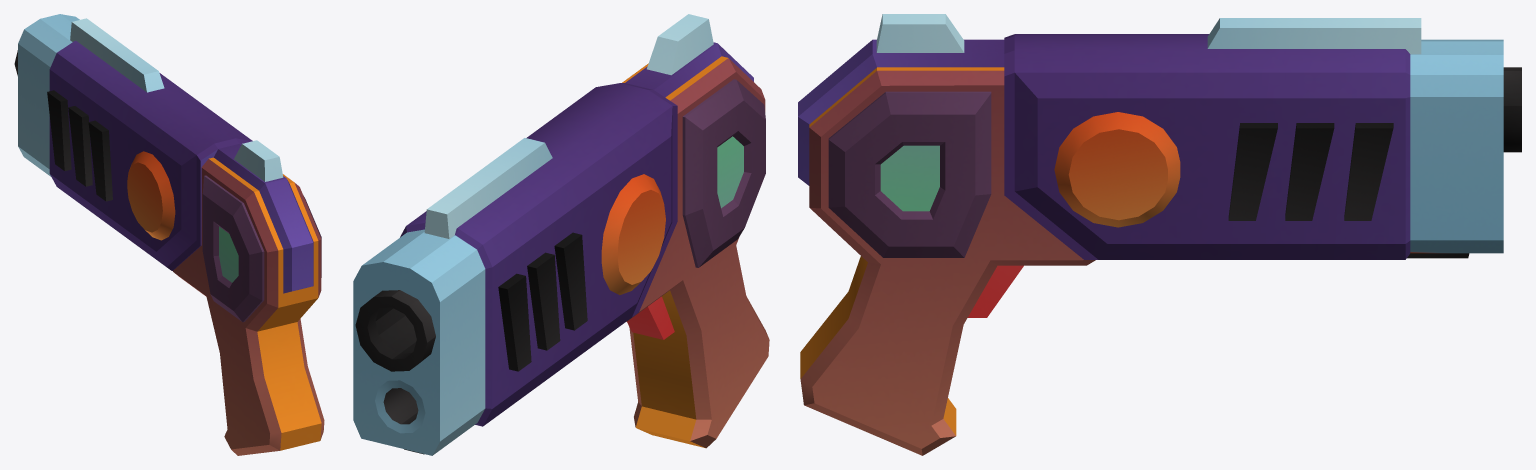
The model's file is SpaceGun_New.FBX.
3 views of the same model, side by side, from view 1: azimuth 30°, elevation 25°; view 2: azimuth 150°, elevation 25°; view 3: azimuth 270°, elevation 25° (orthographic). The views are drawn at different scales.
Visible parts, largest first — view 1: Space_Gun_New; view 2: Space_Gun_New; view 3: Space_Gun_New.
Part boxes in pixels (x1=…): Space_Gun_New: x1=14, y1=14, x2=324, y2=455; Space_Gun_New: x1=353, y1=14, x2=769, y2=455; Space_Gun_New: x1=798, y1=14, x2=1521, y2=455.
Bounding box in the file's own units: 6.07 × 20.44 × 31.69.
